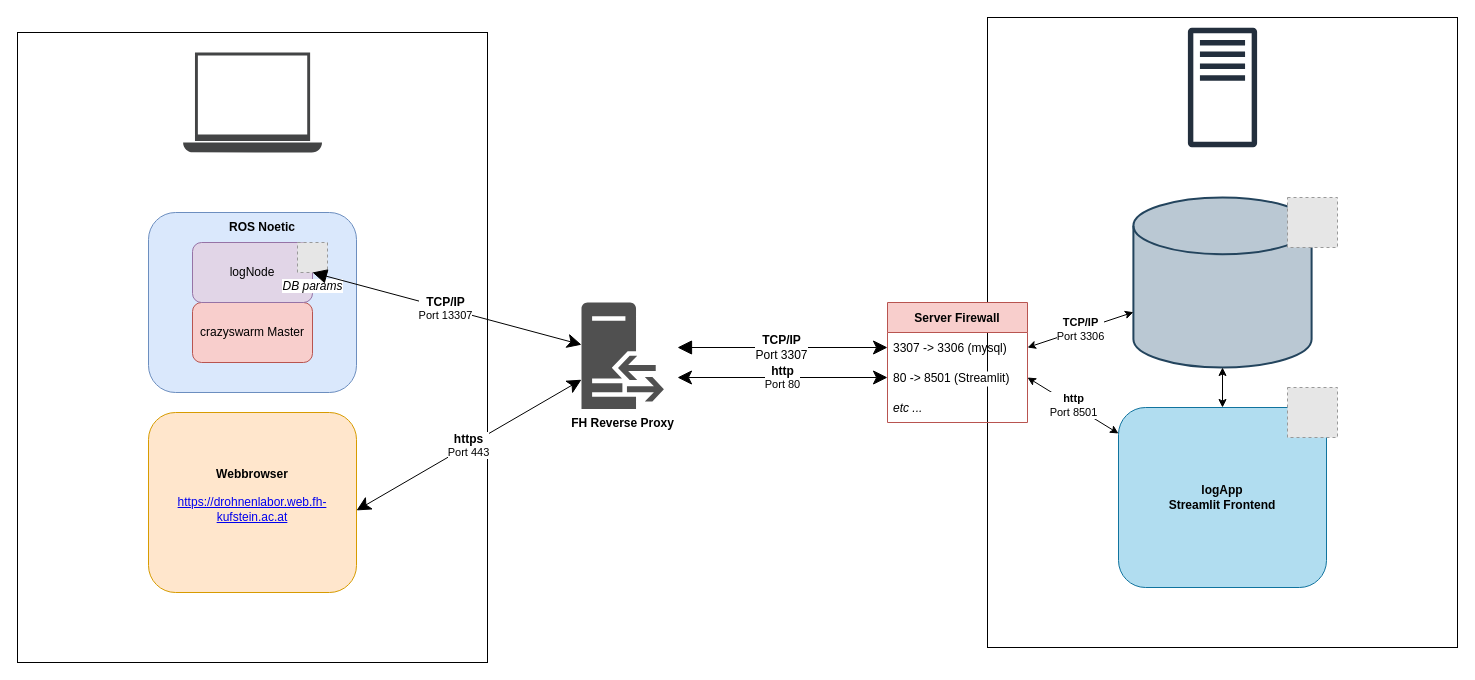
Image size: 1475x680. Some labels were removed from this diagram. Grey dashed boxes stand in for pictures. Each missing label, with the centre of its shape:
Drone Lab Server: the point at 1222,87
MySQL DB: the point at 1222,282
Ubuntu Laptop: the point at 252,102
